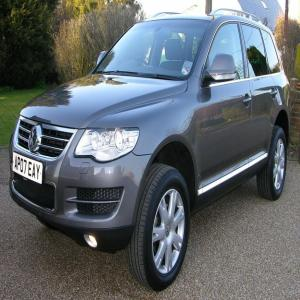Vehicle-registration-plate: (14, 153, 45, 186)
